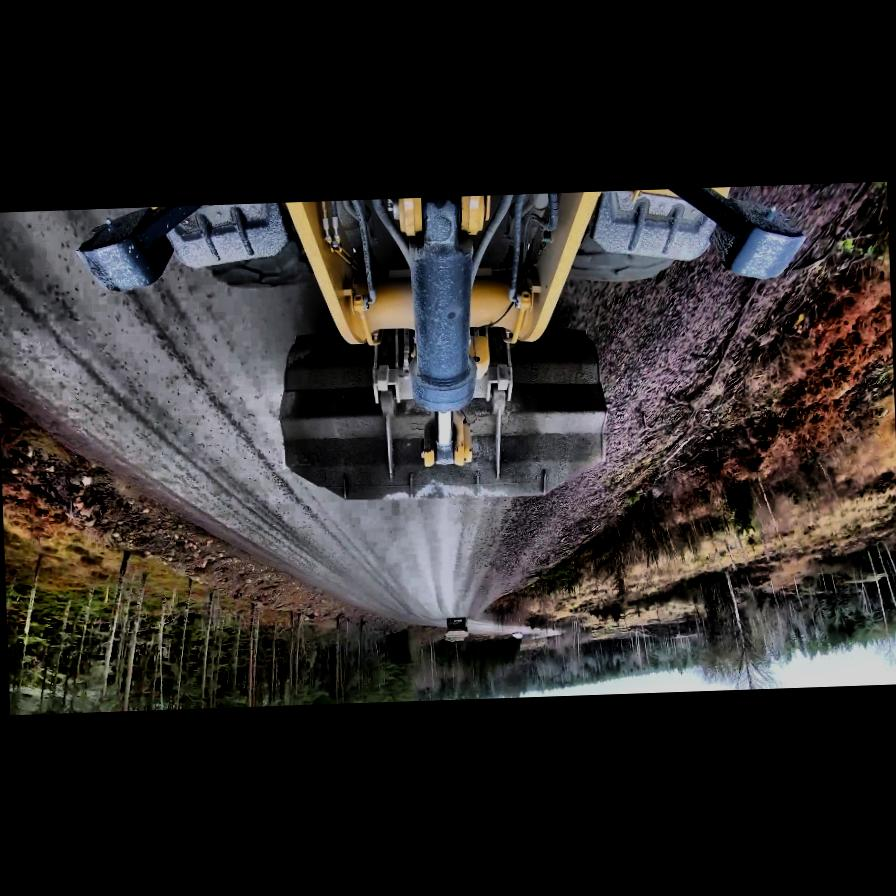anchor: (421, 408, 472, 467)
